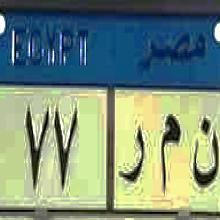7: (22, 101, 52, 192), (54, 100, 79, 194)
meem: (152, 111, 184, 197)
noon: (189, 110, 219, 190)
raa: (115, 120, 149, 190)
